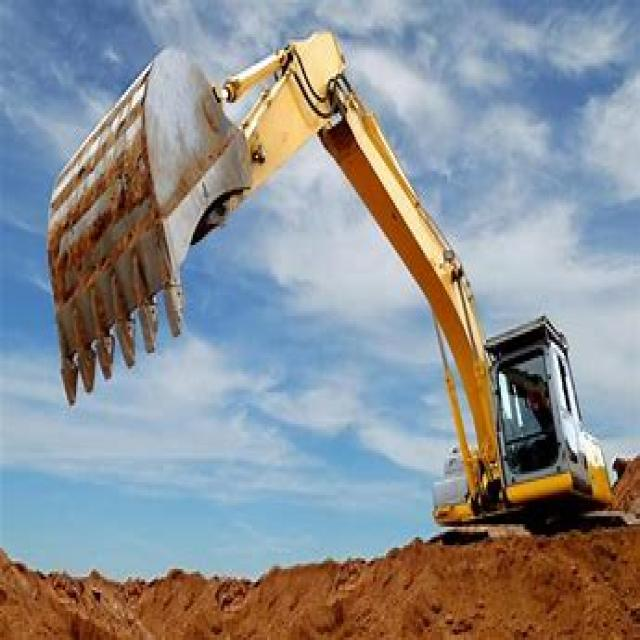dump_truck: (10, 146, 600, 585)
